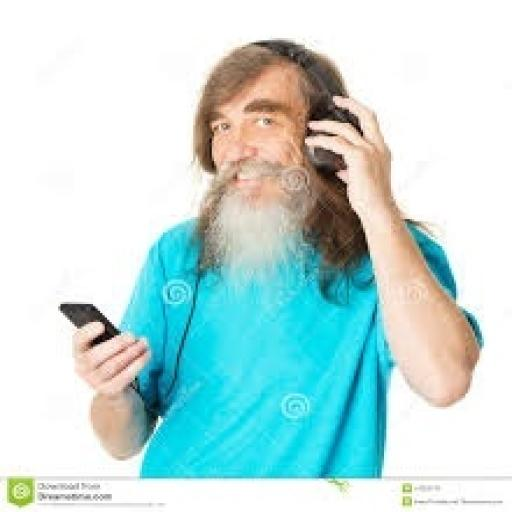listening_to_music: (65, 36, 484, 478)
